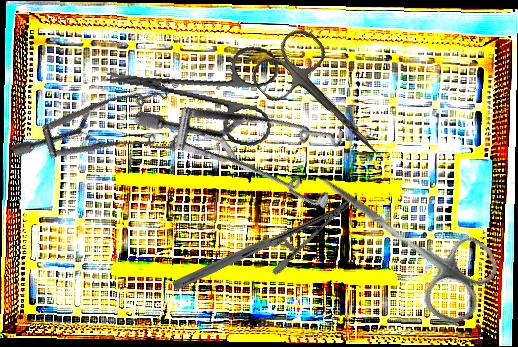Iris Scissors: (293, 145, 510, 333), (245, 22, 404, 182), (98, 24, 283, 149)
Needle Holder: (170, 146, 353, 345)
Speculum: (131, 19, 374, 265), (9, 46, 202, 232)
